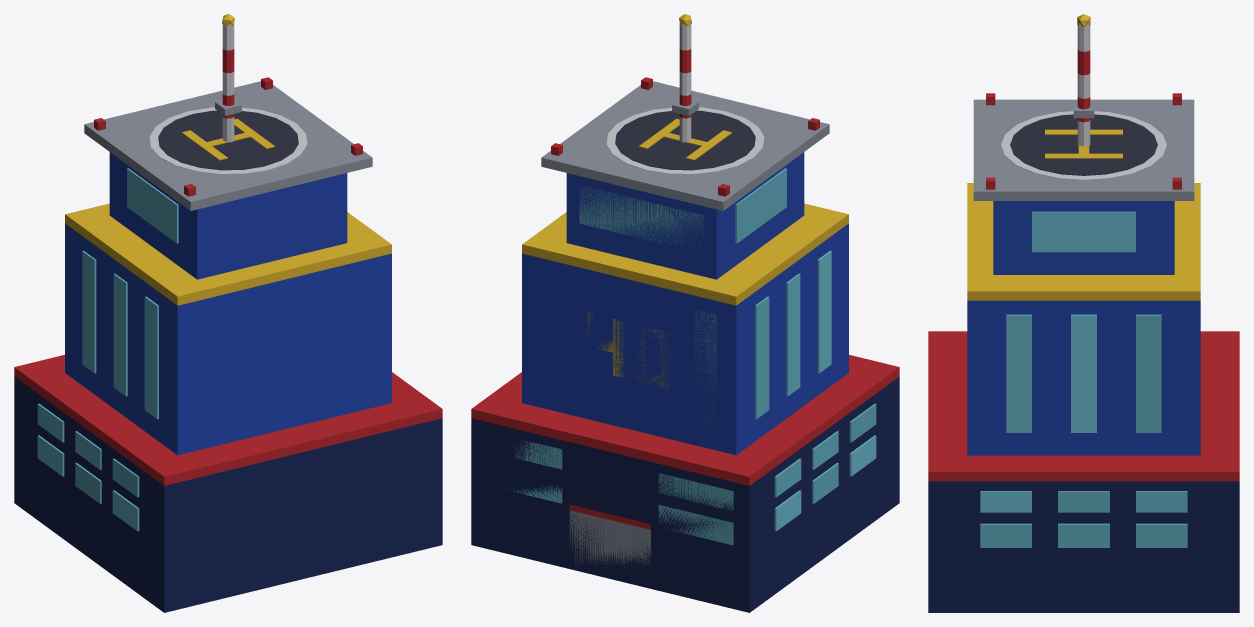
File: Decor_HeroHQ_Tower.fbx
3 renders of one model, left to right at view 1: azimuth 30°, elevation 25°; view 2: azimuth 150°, elevation 25°; view 3: azimuth 270°, elevation 25°, orthographic. The views are drawn at different scales.
Visible parts, largest first — view 1: Tower_Body; view 2: Tower_Body; view 3: Tower_Body.
Boxes of the visible parts, x1,y1,x2,y2 form: Tower_Body: [14, 14, 442, 612]; Tower_Body: [471, 14, 899, 612]; Tower_Body: [928, 14, 1239, 612].
Size of the model in its own units: 26 by 45 by 24.
